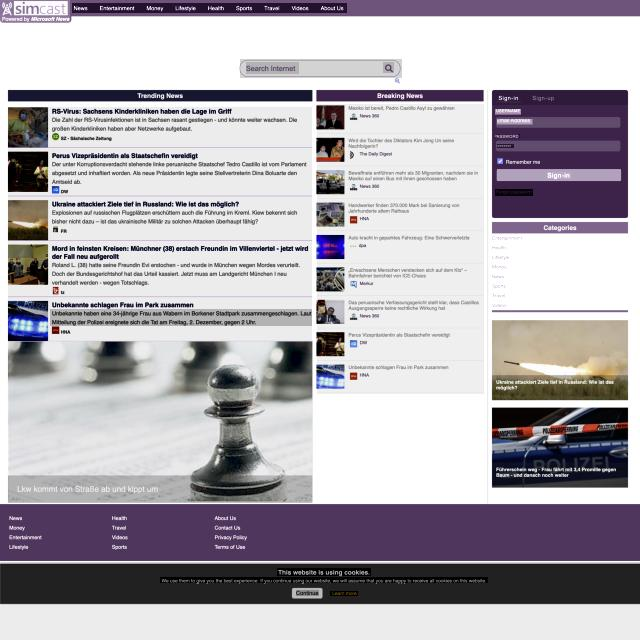CheckBox: (497, 169, 621, 181), (292, 588, 322, 598), (495, 189, 533, 196), (330, 591, 358, 596), (497, 158, 503, 164)
CheckedTextView: (240, 59, 402, 78)
Input field: (50, 309, 312, 326), (160, 577, 488, 583)
TextView: (8, 107, 312, 341), (317, 104, 484, 394)
badge: (0, 505, 640, 562)
bag: (0, 0, 640, 28)
breadcrumbs: (277, 568, 371, 576)
carousel: (383, 62, 394, 73)
copy: (9, 340, 313, 502)
data feed: (547, 172, 571, 179), (495, 110, 521, 116), (296, 590, 319, 596), (496, 134, 522, 138)
date picker: (0, 0, 70, 23)
decoration: (492, 235, 530, 309), (72, 3, 347, 13)
footer: (246, 62, 299, 74), (498, 120, 534, 126), (498, 144, 516, 148)
header: (1, 562, 640, 605)
icon: (492, 90, 628, 105)
